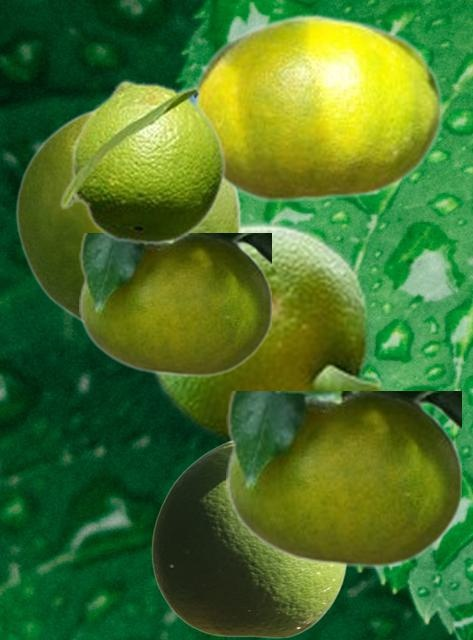dalandan: (151, 217, 386, 442), (15, 107, 240, 322), (191, 13, 442, 203), (226, 391, 460, 567), (151, 442, 346, 637), (58, 79, 226, 245), (79, 233, 270, 376)
